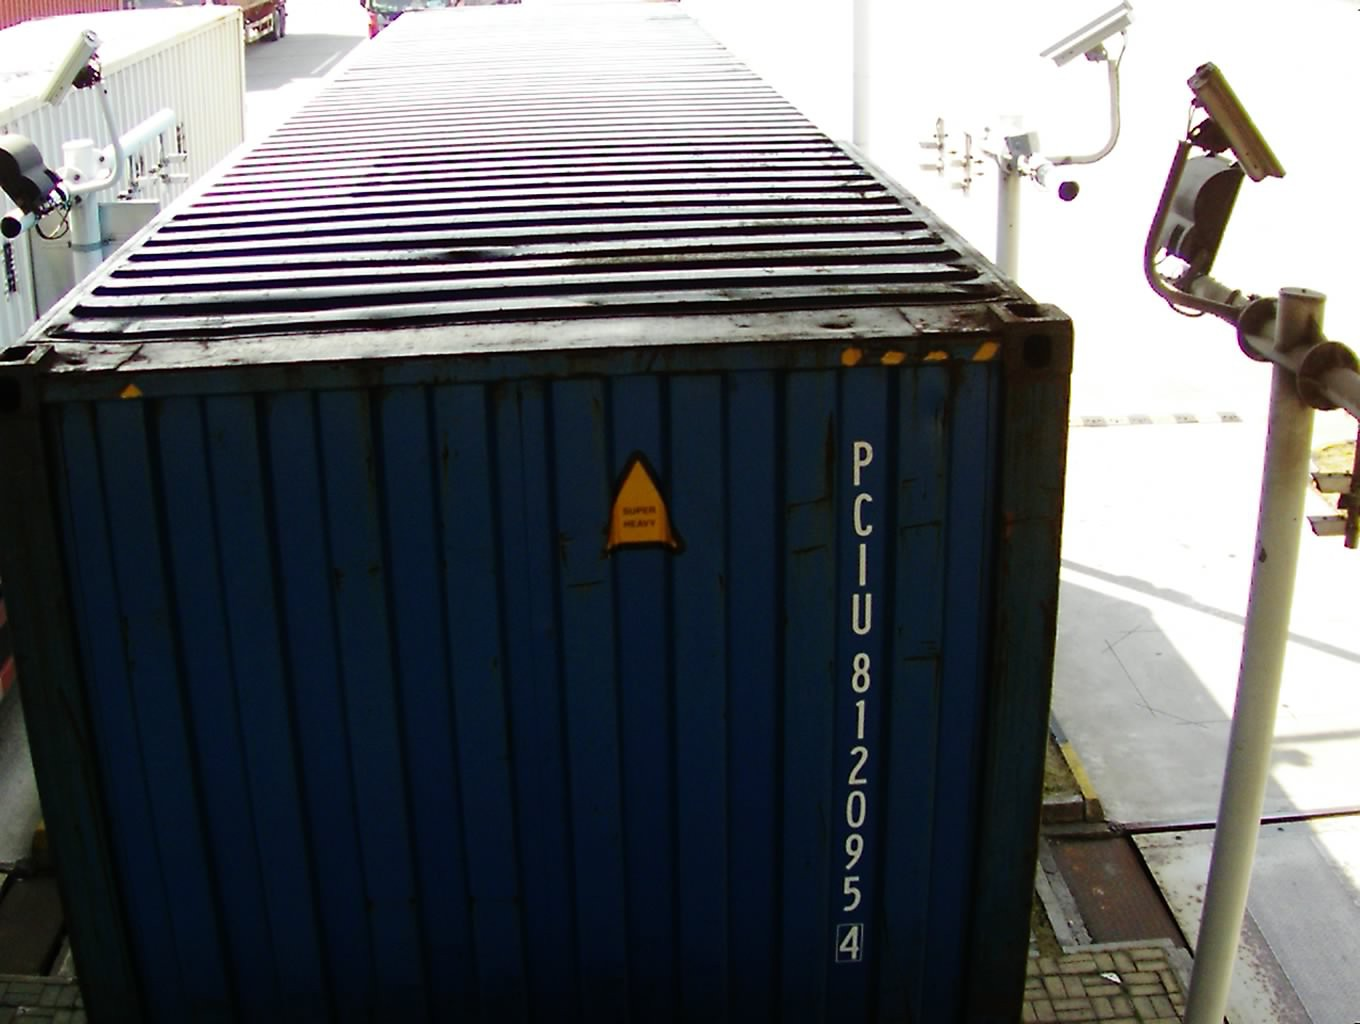words: (834, 435, 881, 969)
